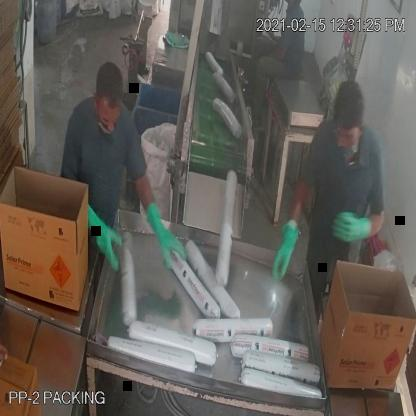glove: (71, 187, 127, 281), (136, 192, 188, 274), (264, 203, 307, 292), (329, 203, 378, 254)
